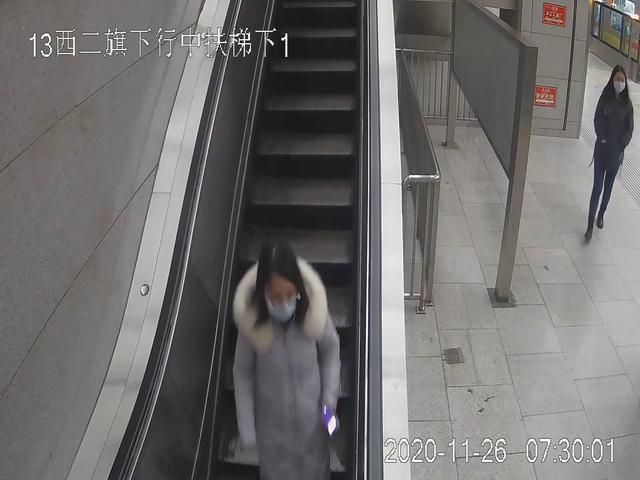person: (234, 246, 342, 479), (585, 65, 634, 243)
